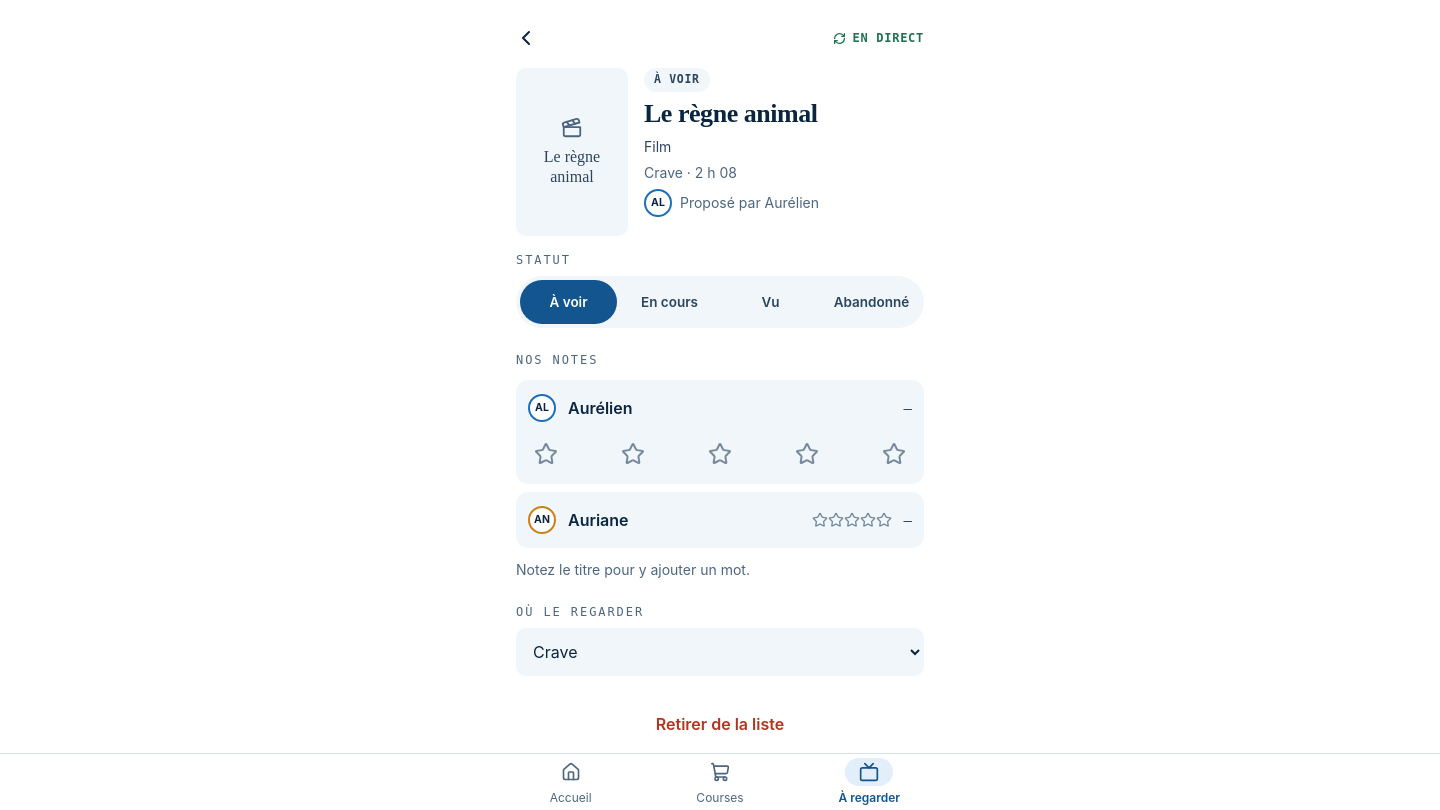
it: la fiche › passer en « Vu » puis retirer de la liste
The width and height of the screenshot is (1440, 810).
Check: the heading "Le règne animal" is shown, box x1=644 y1=98 x2=819 y2=130
Click the radio button labelled "Vu". click: {"x": 770, "y": 302}
box: x1=722 y1=280 x2=819 y2=324
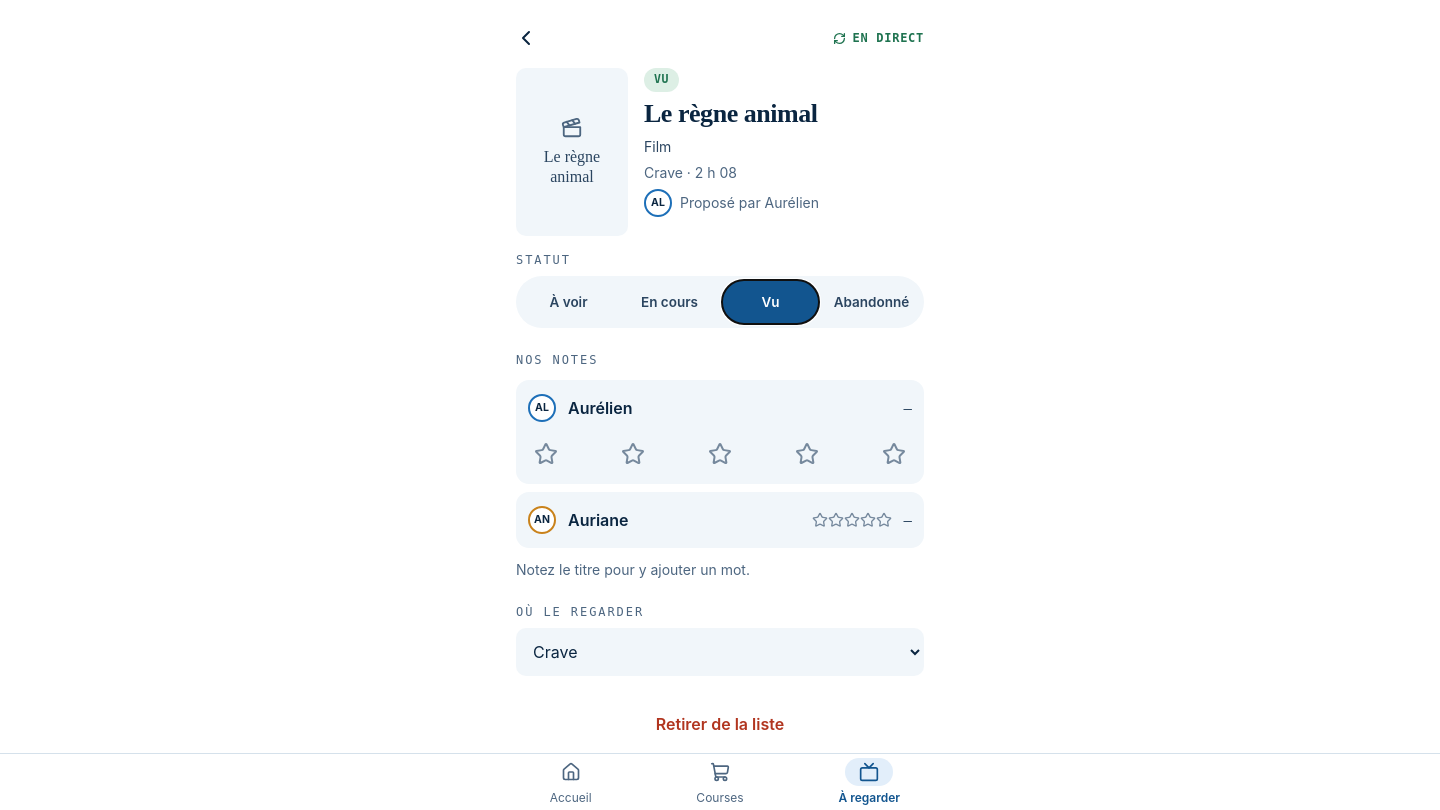
Click the button "Retirer de la liste". click: {"x": 720, "y": 724}
box: x1=516 y1=700 x2=924 y2=748
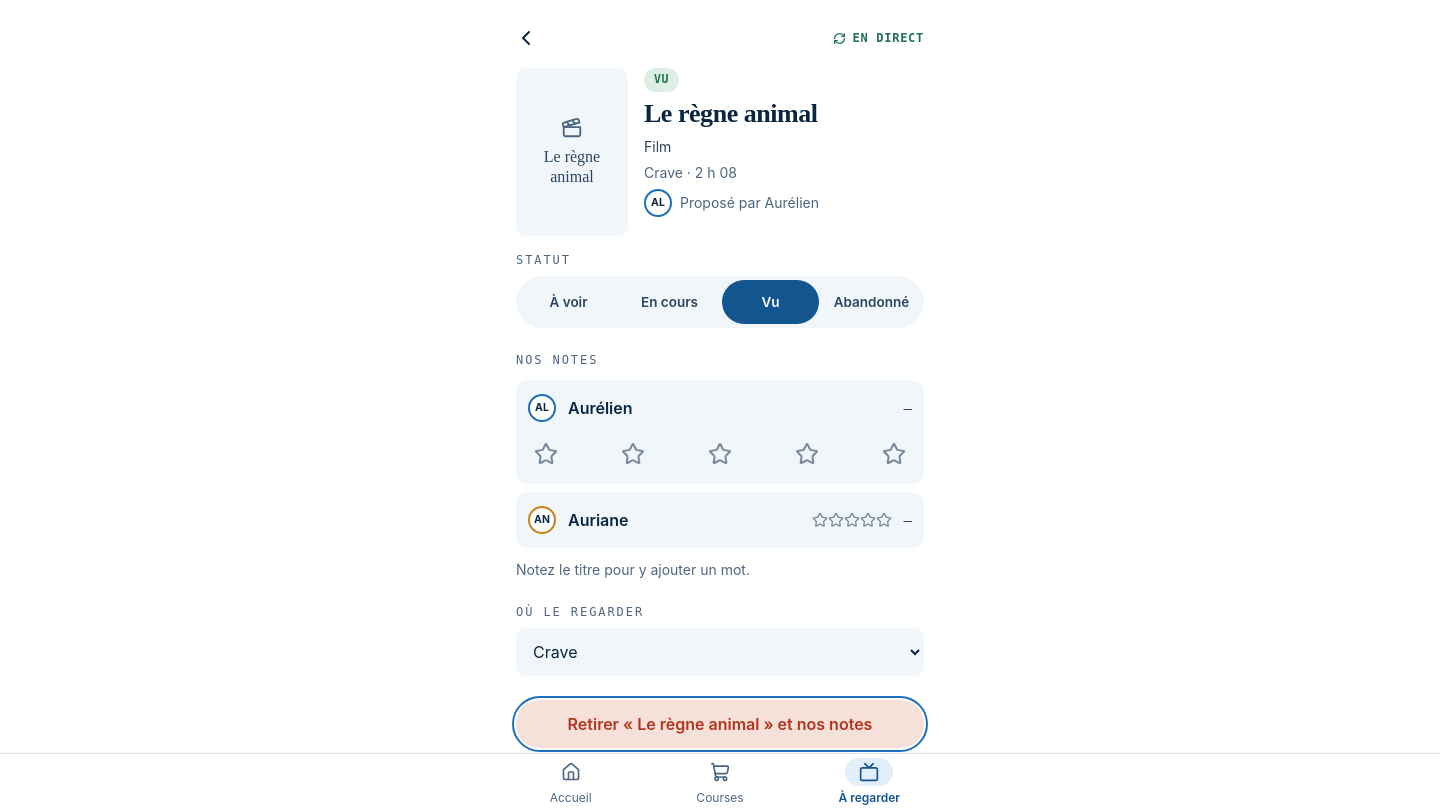
Click the button "Retirer « Le règne animal » et nos notes". click: {"x": 720, "y": 724}
box: x1=516 y1=700 x2=924 y2=748
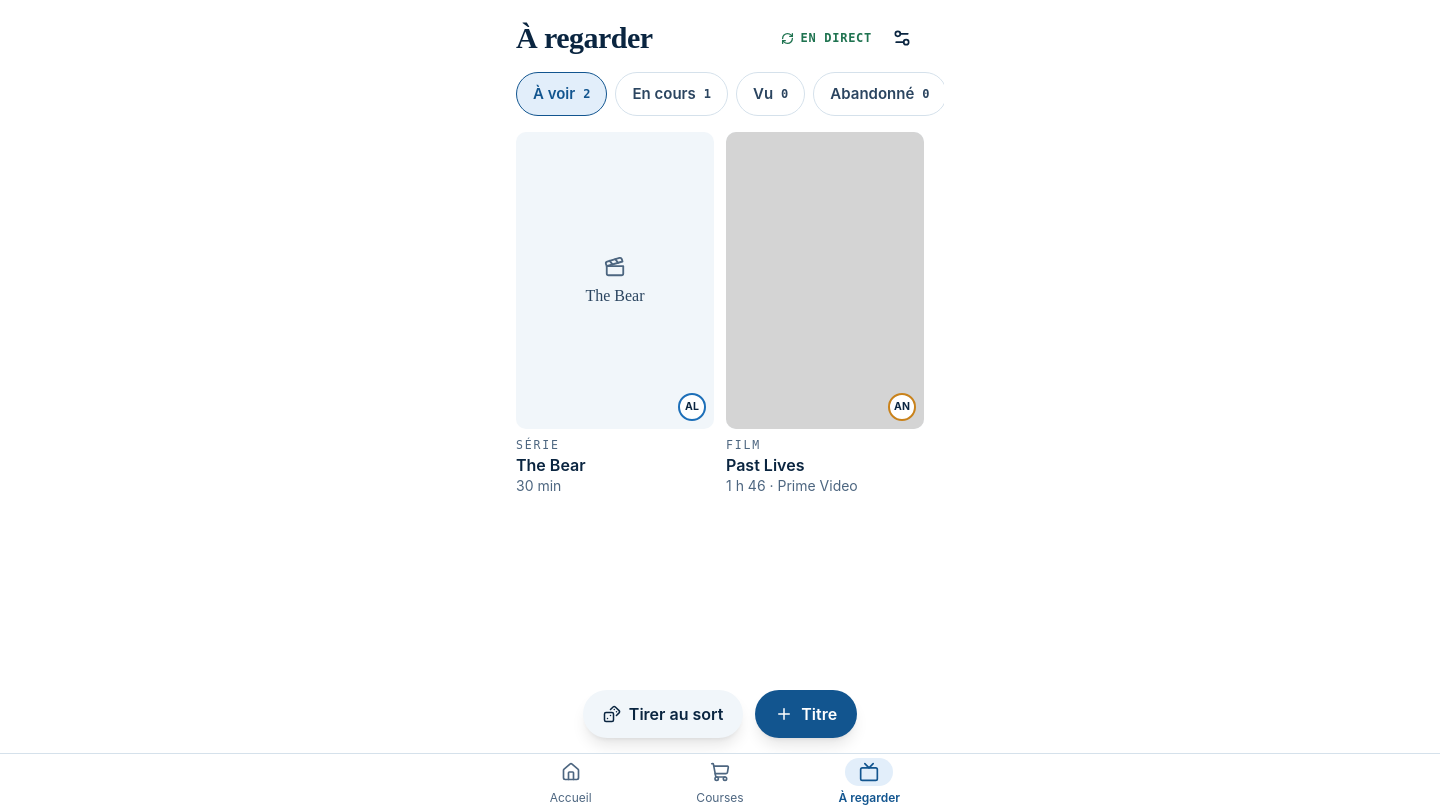
Check: the heading "À regarder" is shown, box x1=516 y1=21 x2=652 y2=54
